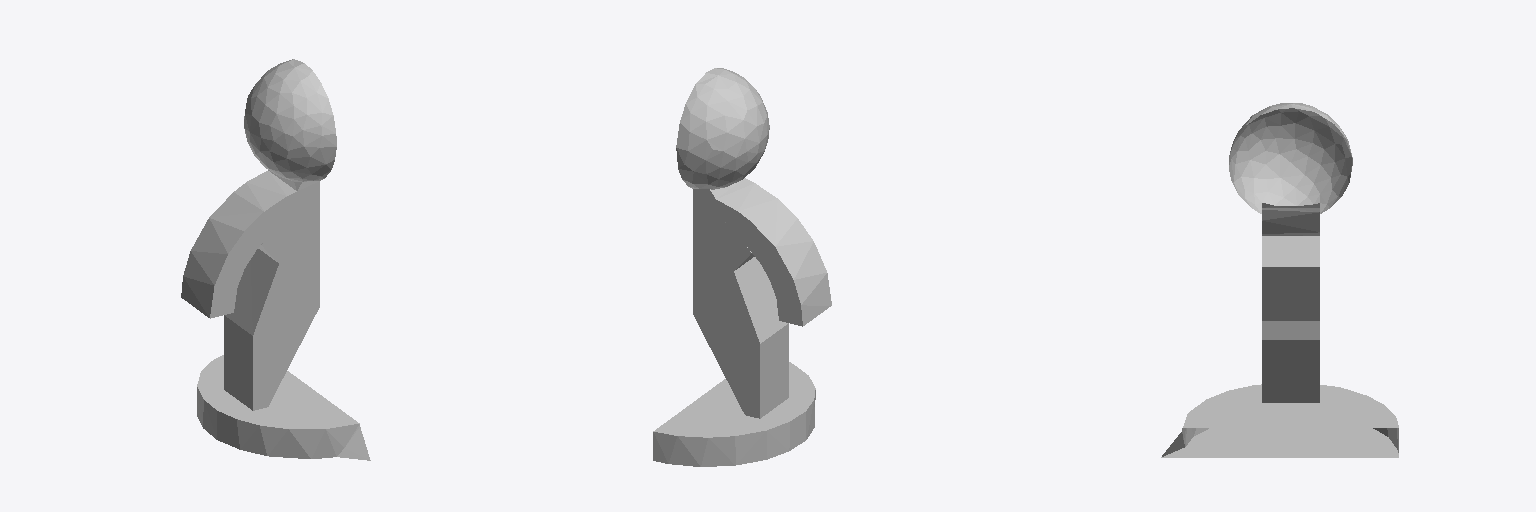
File: token-person-half.obj
The picture shows the model from 3 angles: view 1: azimuth 30°, elevation 25°; view 2: azimuth 150°, elevation 25°; view 3: azimuth 270°, elevation 25°; orthographic projection.
Visible parts, largest first — view 1: Character_Token_Blank; view 2: Character_Token_Blank; view 3: Character_Token_Blank.
Part boxes in pixels (x1,y1,x2,y2): Character_Token_Blank: (181,59,370,460); Character_Token_Blank: (653,68,831,466); Character_Token_Blank: (1161,103,1398,457).
Size of the model in its own units: 11.77 by 35.62 by 22.03.